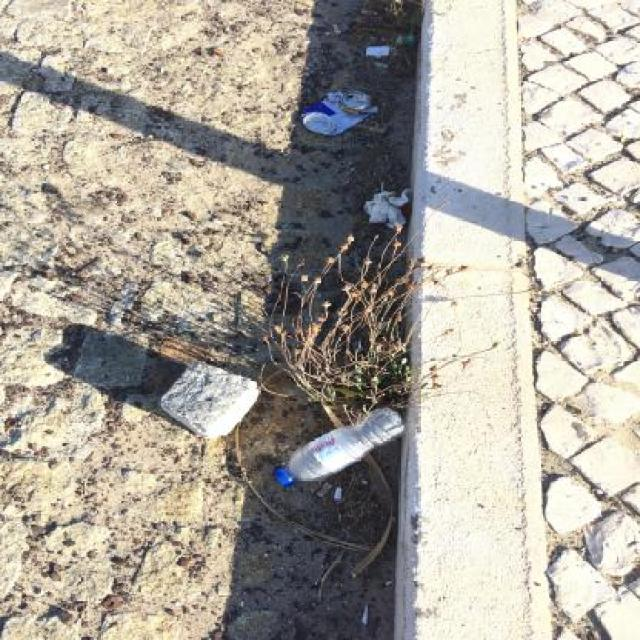metal: (300, 90, 374, 136)
plastic: (274, 407, 406, 487)
